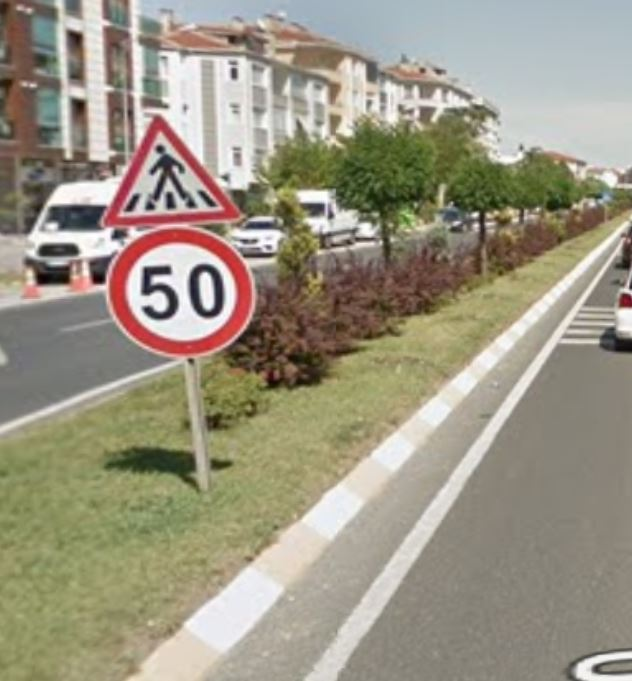50 Km Hiz Siniri: (99, 225, 254, 359)
Yaya Gecidi: (100, 111, 237, 216)
